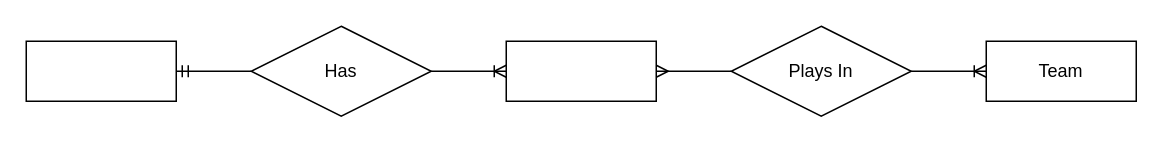
The diagram is 1163 pixels wide and 143 high, and some of its shapes have lost their labels. Each missing label, with the centre of its shape:
Game: (x=580, y=70)
Season: (x=100, y=70)
